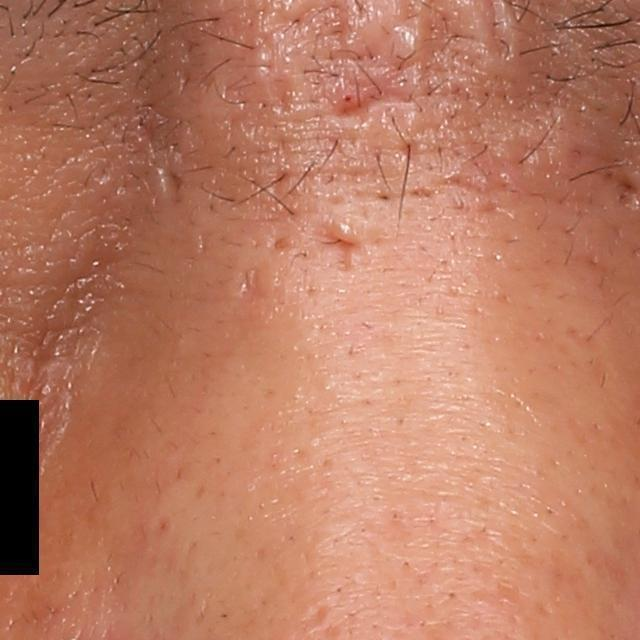atrophic_scar: (330, 82, 419, 121), (237, 266, 272, 312), (307, 598, 338, 631), (163, 161, 185, 197)
